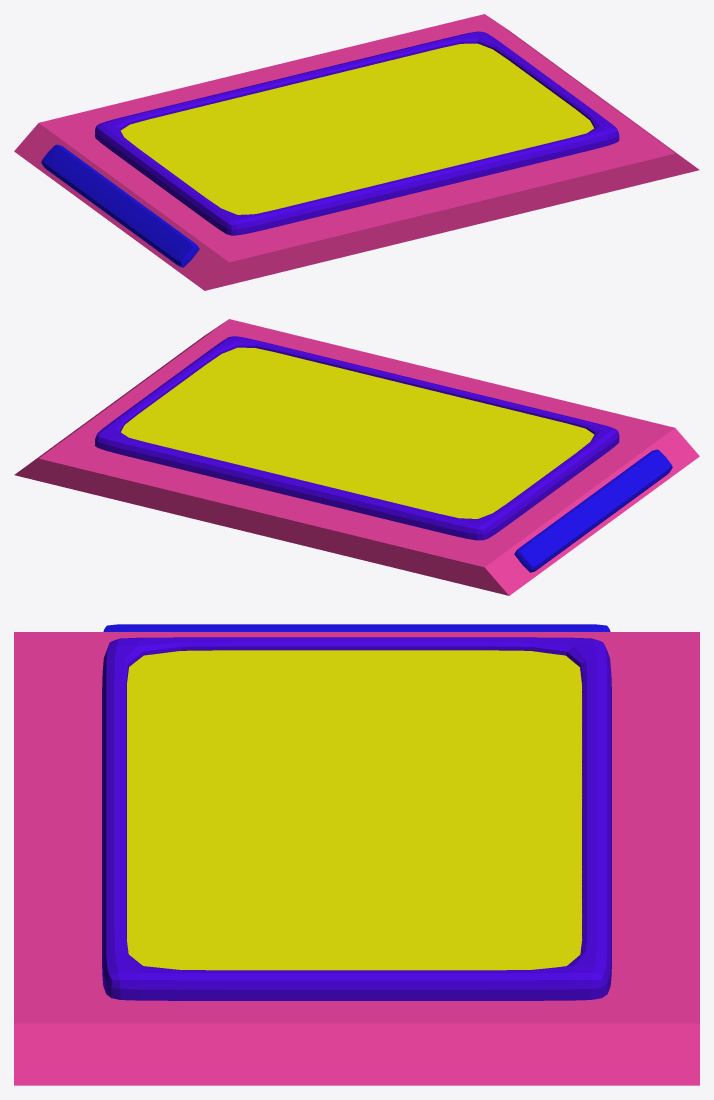
File: ceiling light 0.fbx
3 renders of one model, top to bottom at view 1: azimuth 30°, elevation 25°; view 2: azimuth 150°, elevation 25°; view 3: azimuth 270°, elevation 25°, orthographic. The views are drawn at different scales.
Parts seen in each view (by area): view 1: light source.001, ceiling light.001, middle lamp.001, Cube.061; view 2: light source.001, ceiling light.001, middle lamp.001, Cube.061; view 3: light source.001, ceiling light.001, middle lamp.001, Cube.061.
Part boxes in pixels (box(x1,y1,x2,y2)): light source.001: box(121, 43, 593, 214); ceiling light.001: box(14, 14, 699, 290); middle lamp.001: box(94, 31, 619, 235); Cube.061: box(41, 144, 199, 267); light source.001: box(121, 347, 594, 518); ceiling light.001: box(14, 319, 699, 595); middle lamp.001: box(94, 336, 619, 540); Cube.061: box(514, 449, 672, 572); light source.001: box(127, 650, 581, 970); ceiling light.001: box(14, 632, 699, 1085); middle lamp.001: box(102, 637, 611, 1000); Cube.061: box(103, 624, 610, 631).
Bounding box in the file's own units: 300 × 20.17 × 200.
